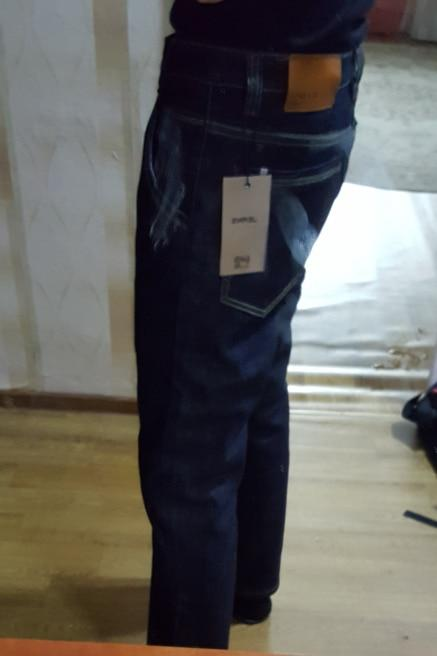jeans: (99, 49, 358, 631)
